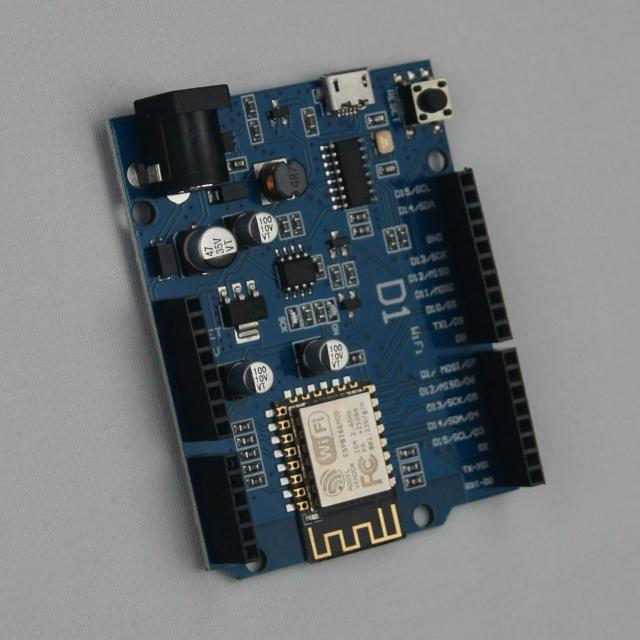Arduino Uno WiFi Shield: (111, 60, 545, 579)
